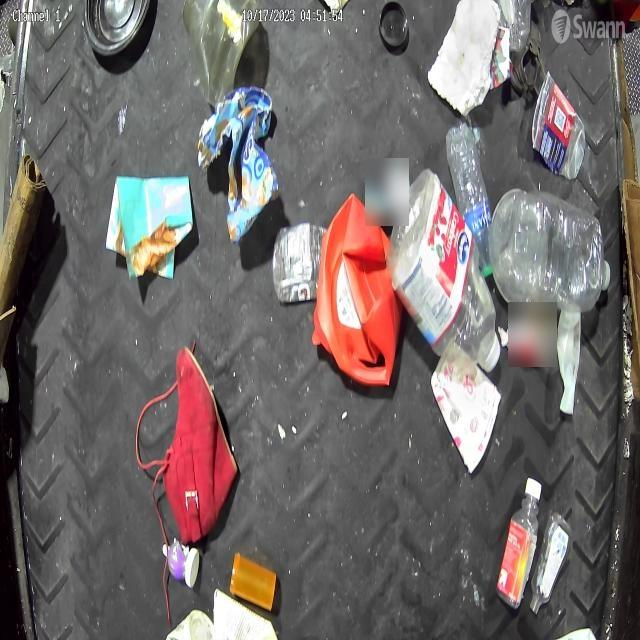non_white_jug: (314, 196, 398, 390)
plastic_bottle: (388, 175, 498, 372), (488, 189, 608, 312), (444, 121, 495, 276), (496, 476, 540, 610)
